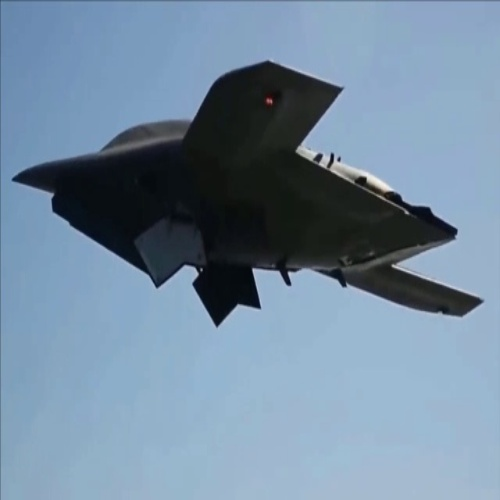uav: (8, 60, 486, 343)
